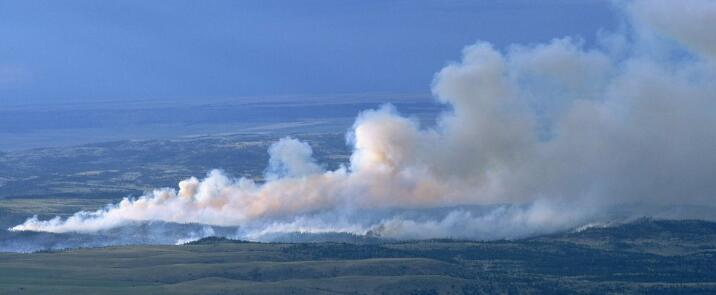yanwu: (12, 9, 715, 254)
